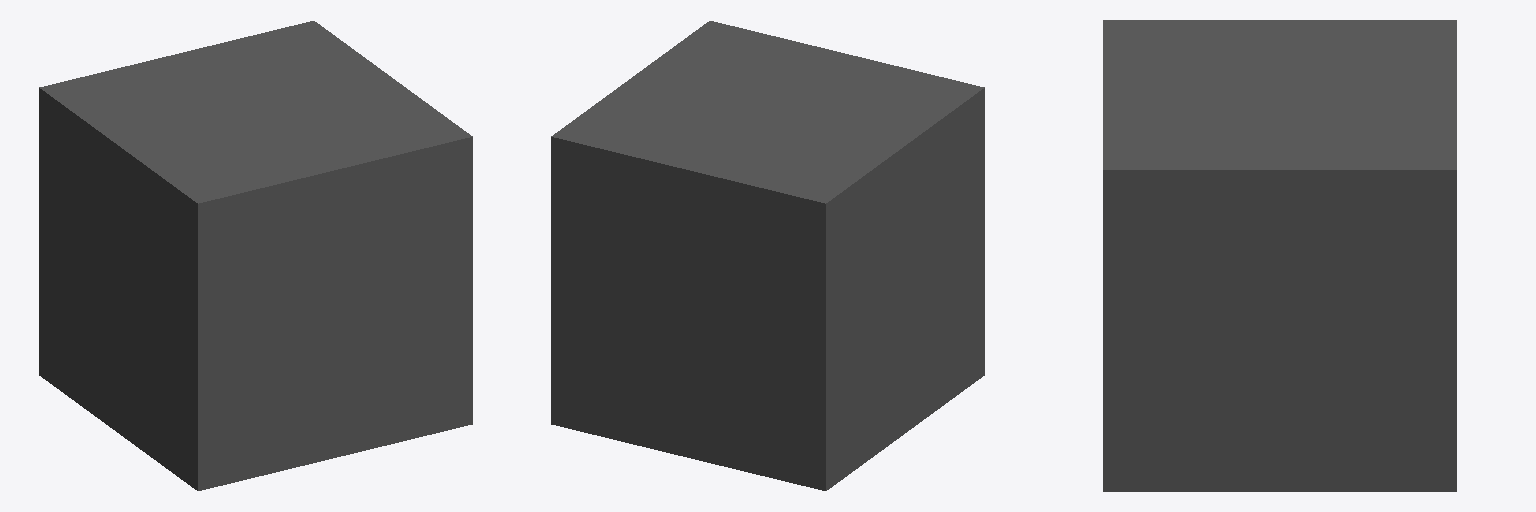
robot.urdf — Test_Robot:
<?xml version='1.0'?>
<robot name="Test_Robot">

    <!-- Wood Base Link [0] -->
    <link name="Base_Wood">
        <inertial>
            <mass value="1.0"/>  <!-- Mass in kilograms -->
            <origin xyz="0 0 0" rpy="0 0 0"/>  <!-- Center of mass position (relative to link frame) -->
            <inertia ixx="0.01" ixy="0.0" ixz="0.0" iyy="0.01" iyz="0.0" izz="0.01"/>  <!-- Inertia matrix -->
        </inertial>
        <visual>
            <geometry>
                <box size="0.14 0.14 0.14"/>
            </geometry>
            <material name="dark_gray">
                <color rgba="0.4 0.4 0.4 1.0"/>
            </material>
        </visual>
        <collision>
            <geometry>
                <mesh filename="test.obj"/>
            </geometry>
        </collision>
    </link>

</robot>

--- Render facts (derived) ---
3 views of the same robot in one strip: view 1: azimuth 30°, elevation 25°; view 2: azimuth 150°, elevation 25°; view 3: azimuth 270°, elevation 25° (orthographic).
Model Test_Robot with 1 links and 0 joints (none), rooted at Base_Wood, posed every joint at zero.
Links seen in each view (by area): view 1: Base_Wood; view 2: Base_Wood; view 3: Base_Wood.
Link boxes in pixels (left/top/right/bottom): Base_Wood: left=39, top=21, right=472, bottom=490; Base_Wood: left=551, top=21, right=984, bottom=490; Base_Wood: left=1103, top=20, right=1456, bottom=491.
Bounding box of the posed robot: 0.14 × 0.14 × 0.14 m (x, y, z).
Geometry: primitives only (box / cylinder / sphere), no mesh files.